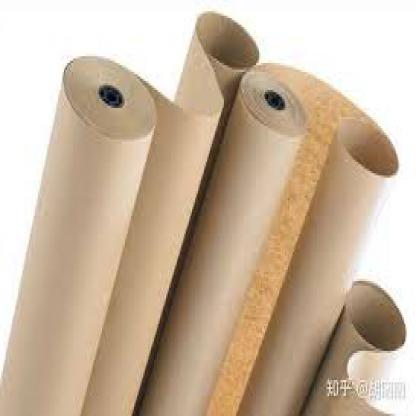CARDBOARD: (84, 9, 259, 414), (137, 67, 305, 414), (0, 54, 154, 414), (261, 65, 399, 414), (306, 276, 414, 414)
